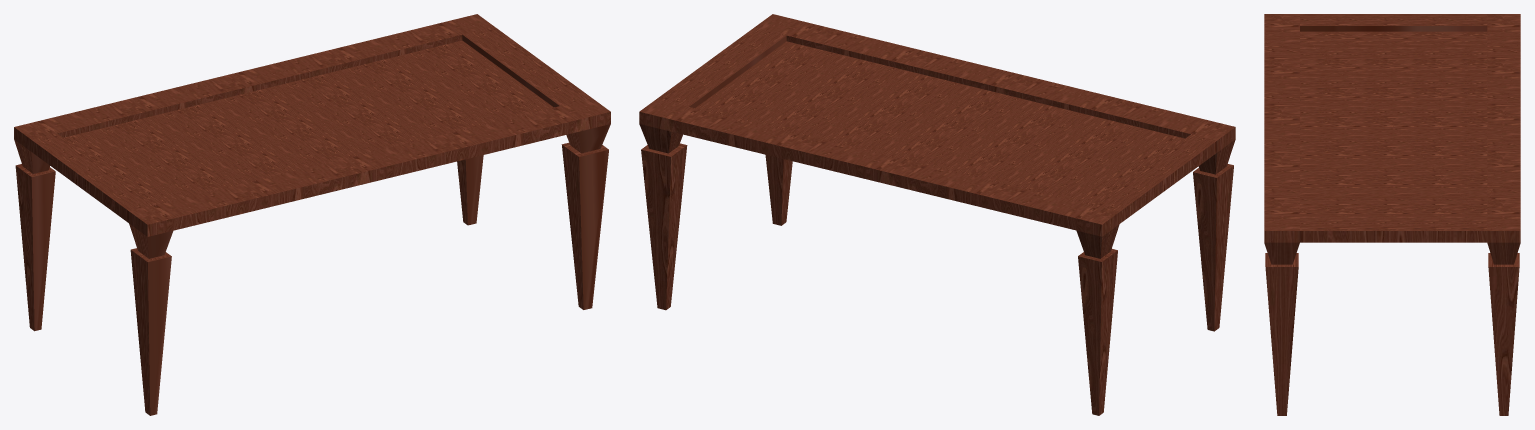
Rendered from ProtoTable.fbx.
The picture shows the model from 3 angles, left to right: view 1: azimuth 30°, elevation 25°; view 2: azimuth 150°, elevation 25°; view 3: azimuth 270°, elevation 25°; orthographic projection. The views are drawn at different scales.
Parts seen in each view (by area): view 1: pCube4; view 2: pCube4; view 3: pCube4.
Part boxes in pixels (x1,y1,x2,y2): pCube4: (14,14,610,415); pCube4: (639,14,1235,415); pCube4: (1264,14,1520,415).
Size of the model in its own units: 366 by 150 by 183.
